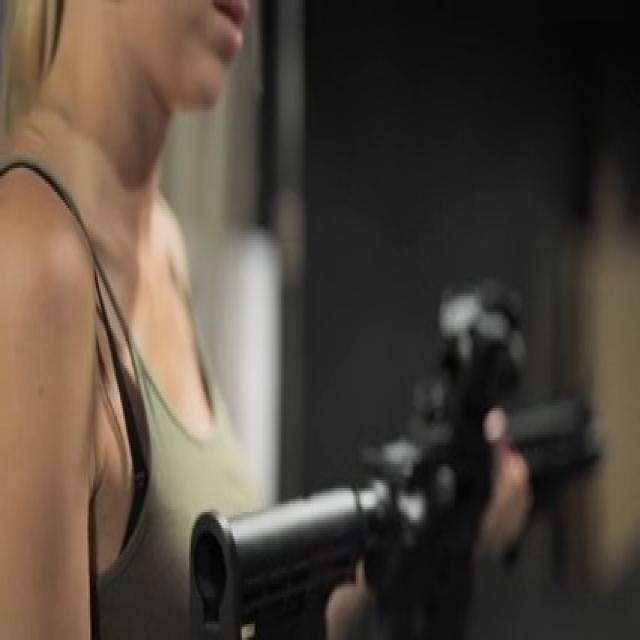Gun_Holder: (163, 261, 640, 640)
Person: (0, 0, 373, 640)
